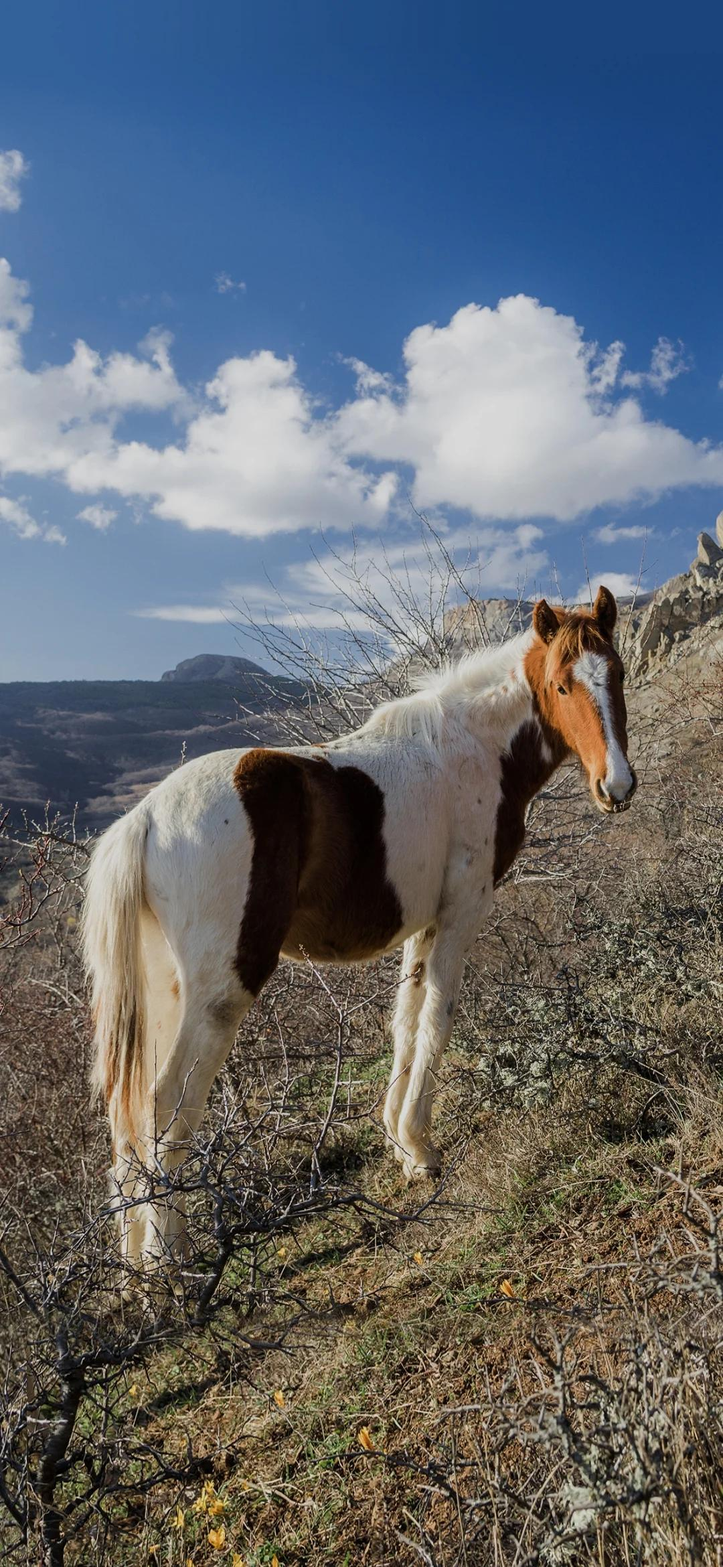horse: (27, 567, 649, 1289)
